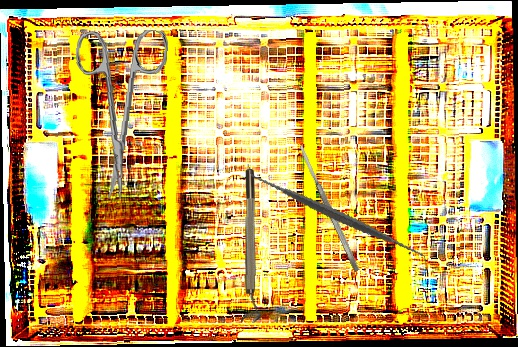Fixation Ring: (240, 168, 264, 324)
Iris Scissors: (66, 25, 169, 202)
Spatula Surgical: (246, 126, 428, 304), (297, 143, 361, 273)
